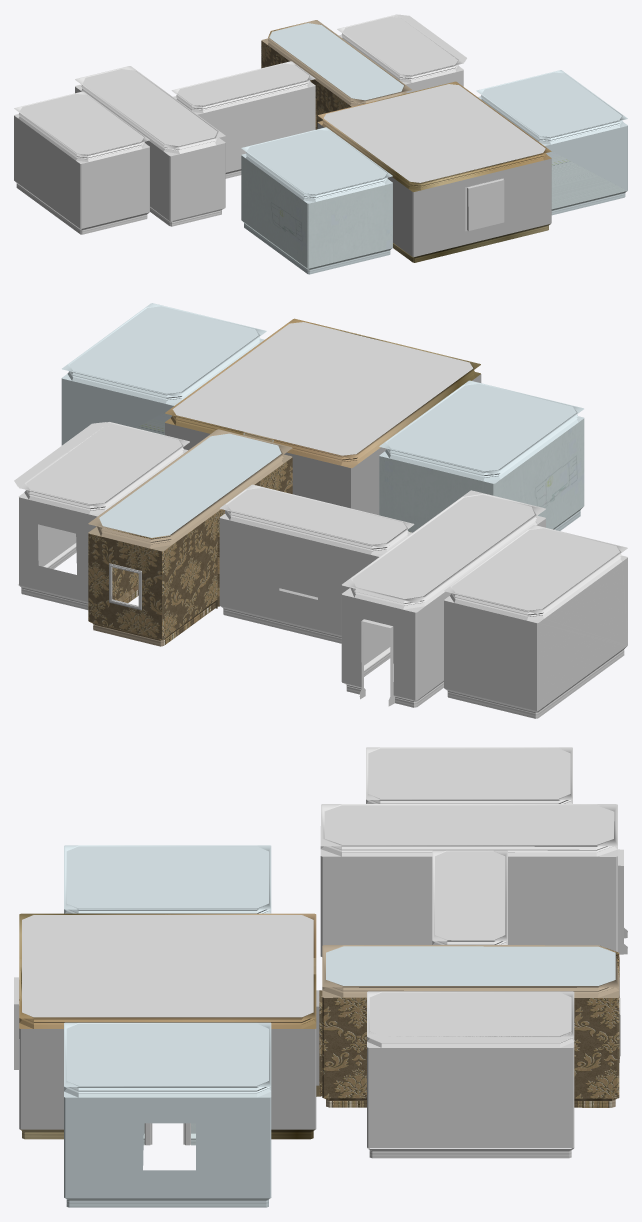
Rendered from sala132.fbx.
3 views of the same model, one above another, from view 1: azimuth 30°, elevation 25°; view 2: azimuth 150°, elevation 25°; view 3: azimuth 270°, elevation 25° (orthographic). The views are drawn at different scales.
Parts seen in each view (by area): view 1: Teto, Parede, Paredes.004, Paredes.005, RodaForro.009, RodaForro.008, Parede.001, Paredes.003, Paredes.002, RodaForro.013, RodaForro.010, RodaForro.014 (+20 smaller); view 2: Teto, Paredes.004, Paredes, Paredes.002, Parede, RodaForro.009, RodaForro.008, RodaForro.010, RodaForro.013, Paredes.003, RodaForro.014, RodaForro.011 (+19 smaller); view 3: Teto, Paredes.001, Paredes.003, Parede.001, RodaForro.008, RodaForro.009, RodaForro.013, RodaForro.010, RodaForro.014, RodaForro.011, Paredes, Paredes.005 (+13 smaller).
Part boxes in pixels (bbox=[...]): Teto: bbox=[323, 84, 545, 182]; Parede: bbox=[241, 155, 392, 268]; Paredes.004: bbox=[14, 115, 149, 228]; Paredes.005: bbox=[317, 123, 551, 257]; RodaForro.009: bbox=[482, 72, 621, 136]; RodaForro.008: bbox=[247, 129, 386, 194]; Parede.001: bbox=[545, 126, 627, 209]; Paredes.003: bbox=[75, 87, 225, 221]; Paredes.002: bbox=[197, 86, 315, 172]; RodaForro.013: bbox=[83, 69, 217, 146]; RodaForro.010: bbox=[269, 23, 403, 100]; RodaForro.014: bbox=[20, 94, 144, 154]; Teto: bbox=[172, 322, 473, 455]; Paredes.004: bbox=[444, 558, 627, 710]; Paredes: bbox=[88, 457, 292, 639]; Paredes.002: bbox=[219, 518, 378, 635]; Parede: bbox=[379, 418, 584, 532]; RodaForro.009: bbox=[69, 306, 258, 393]; RodaForro.008: bbox=[387, 384, 576, 471]; RodaForro.010: bbox=[99, 433, 281, 537]; RodaForro.013: bbox=[352, 494, 534, 598]; Paredes.003: bbox=[341, 519, 545, 700]; RodaForro.014: bbox=[452, 528, 619, 610]; RodaForro.011: bbox=[14, 422, 182, 504]; Teto: bbox=[22, 915, 313, 1017]; Paredes.001: bbox=[367, 1047, 574, 1148]; Paredes.003: bbox=[320, 856, 617, 956]; Parede.001: bbox=[64, 1097, 271, 1198]; RodaForro.008: bbox=[66, 846, 268, 908]; RodaForro.009: bbox=[66, 1023, 268, 1085]; RodaForro.013: bbox=[324, 805, 614, 844]; RodaForro.010: bbox=[326, 946, 615, 985]; RodaForro.014: bbox=[368, 748, 570, 798]; RodaForro.011: bbox=[369, 992, 571, 1042]; Paredes: bbox=[319, 958, 619, 1098]; Paredes.005: bbox=[19, 1028, 316, 1129].
Bounding box in the file's own units: 10151 × 1706 × 7751.
